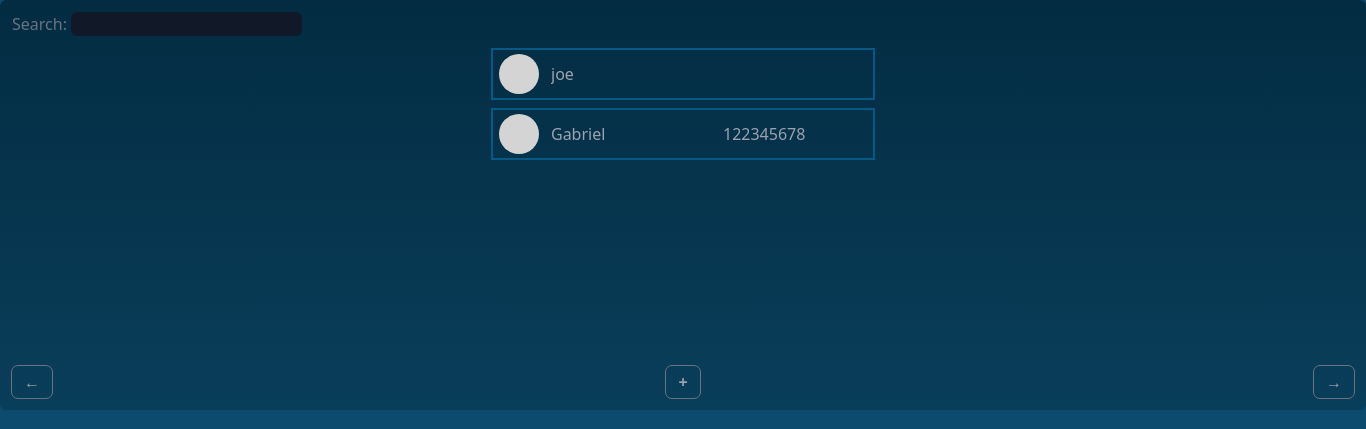
Test case: Integration test for the contact table › Delete the contact
What coordinates should you click on to do the following:
click the text "Gabriel"
I would click on:
 (578, 134)
Its box is [551, 123, 605, 145].
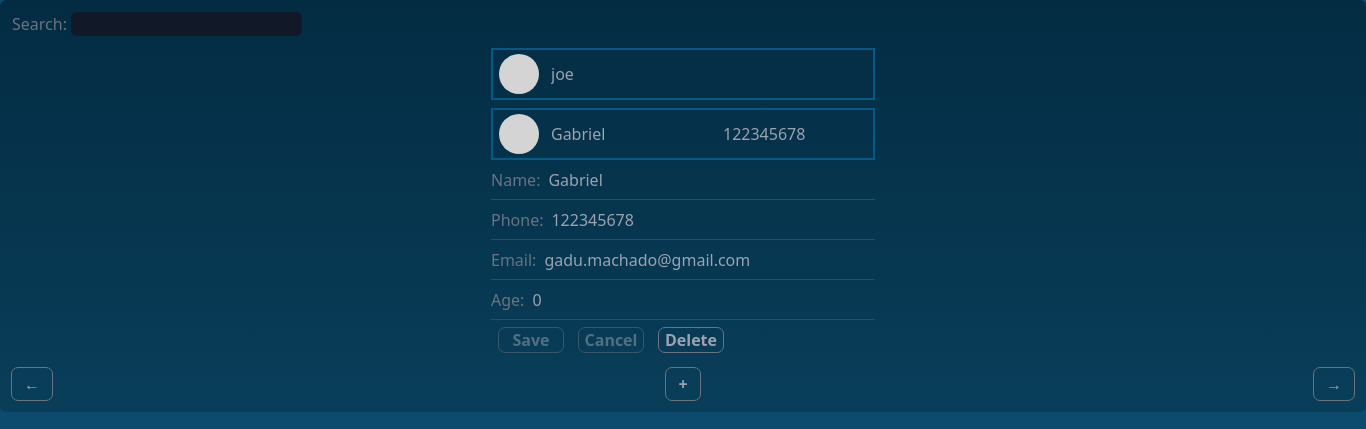
What coordinates should you click on to do the following:
click the button "Delete"
I would click on:
 (691, 340)
Its box is [659, 328, 723, 352].
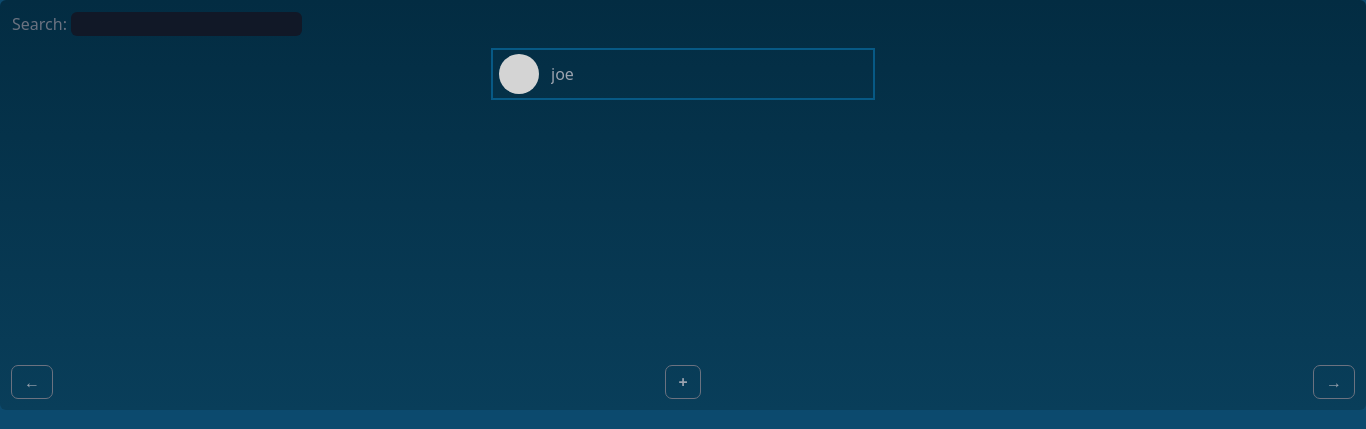
Check: the text "Gabriel" is not shown
